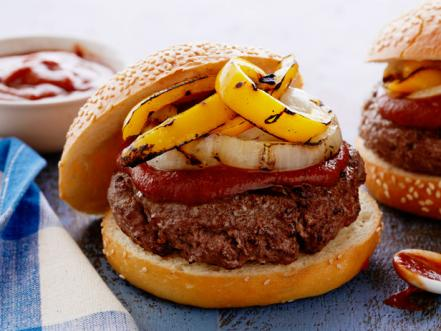hamburger_buns: (54, 43, 326, 201)
